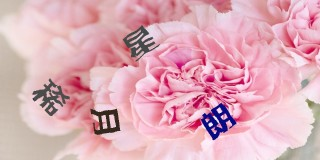星: (122, 25, 161, 62)
月: (89, 107, 121, 138)
朗: (199, 103, 238, 141)
稀: (30, 76, 71, 117)
